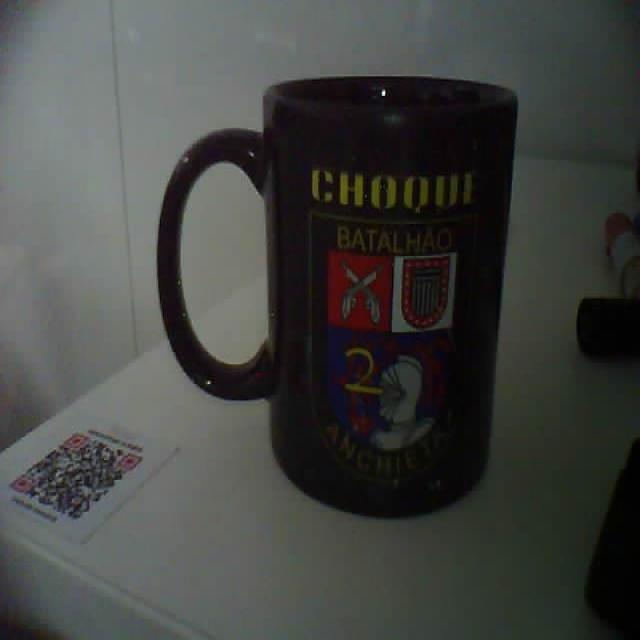caneca: (159, 77, 517, 516)
